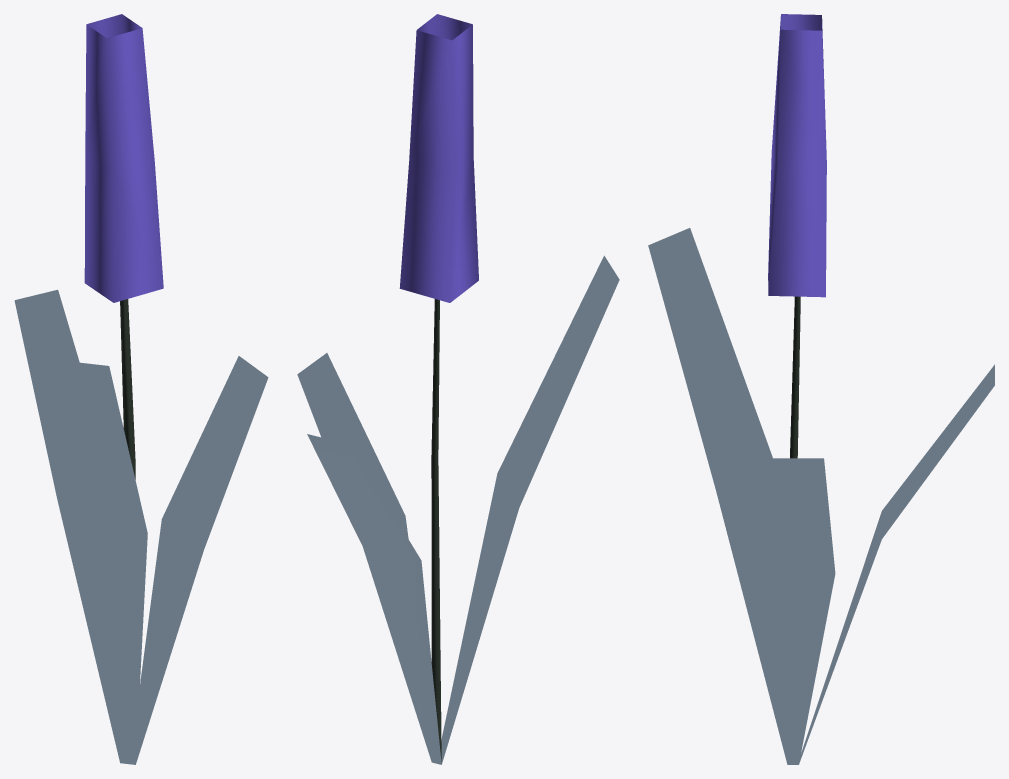
Rendered from Flower.fbx.
3 renders of one model, left to right at view 1: azimuth 30°, elevation 25°; view 2: azimuth 150°, elevation 25°; view 3: azimuth 270°, elevation 25°, orthographic.
Parts seen in each view (by area): view 1: Flower_LOD0; view 2: Flower_LOD0; view 3: Flower_LOD0.
Boxes of the visible parts, x1=… form: Flower_LOD0: x1=14, y1=14, x2=268, y2=764; Flower_LOD0: x1=297, y1=14, x2=619, y2=764; Flower_LOD0: x1=648, y1=14, x2=994, y2=764.
Size of what is drawn, in the model's own units: 31.41 by 87.21 by 37.19.
